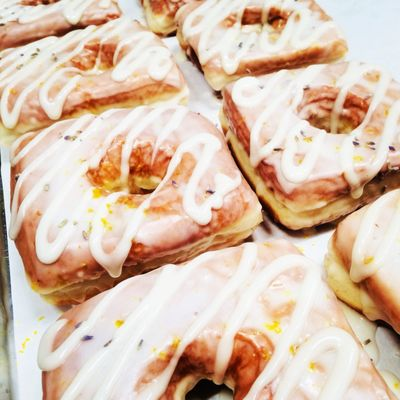salad: (219, 57, 400, 232), (323, 187, 400, 337)
